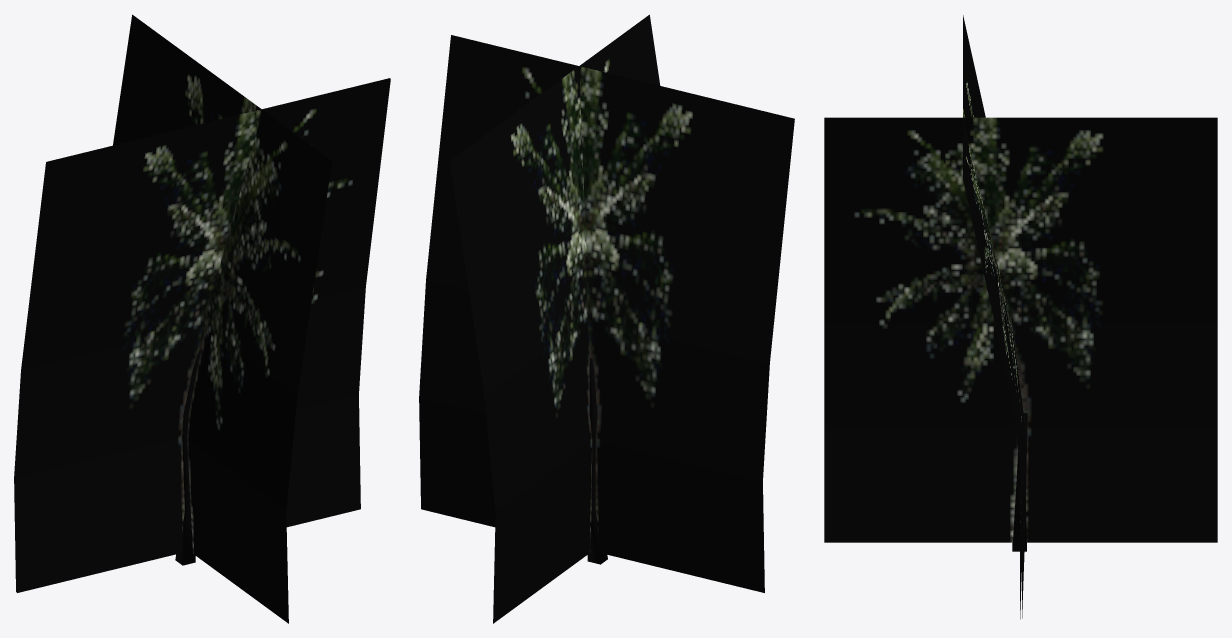
Rendered from tree039.fbx.
3 renders of one model, left to right at view 1: azimuth 30°, elevation 25°; view 2: azimuth 150°, elevation 25°; view 3: azimuth 270°, elevation 25°, orthographic.
Parts seen in each view (by area): view 1: tree039, tree039_trunk; view 2: tree039, tree039_trunk; view 3: tree039, tree039_trunk.
Boxes of the visible parts, x1,y1,x2,y2 form: tree039: (14, 14, 390, 623); tree039_trunk: (175, 349, 201, 565); tree039: (419, 14, 794, 623); tree039_trunk: (587, 357, 607, 564); tree039: (824, 15, 1217, 619); tree039_trunk: (1012, 358, 1027, 551).
Size of the model in its own units: 397 by 509 by 400.
Materials: 1 (1 with a texture image).
